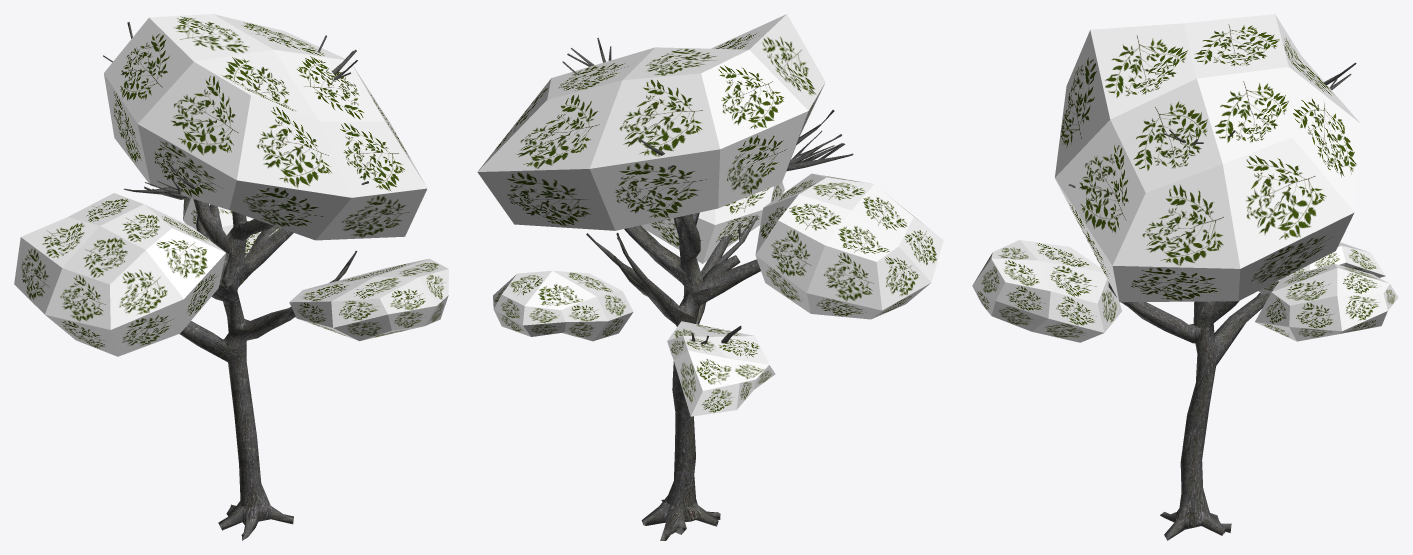
The model's file is QuadmeshTree.fbx.
The picture shows the model from 3 angles, left to right: view 1: azimuth 30°, elevation 25°; view 2: azimuth 150°, elevation 25°; view 3: azimuth 270°, elevation 25°; orthographic projection. The views are drawn at different scales.
Visible parts, largest first — view 1: TreeHighQuality.003; view 2: TreeHighQuality.003; view 3: TreeHighQuality.003.
Part boxes in pixels (bbox=[...]): TreeHighQuality.003: bbox=[14, 14, 448, 540]; TreeHighQuality.003: bbox=[477, 14, 943, 540]; TreeHighQuality.003: bbox=[972, 14, 1398, 540].
Bounding box in the file's own units: 924 × 966 × 1169.
